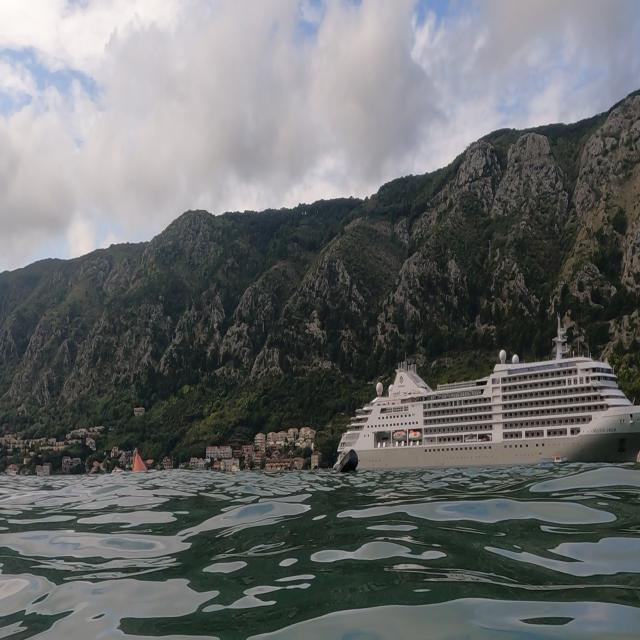boat: (332, 311, 638, 474)
buoy: (324, 447, 362, 479), (127, 443, 151, 480)
